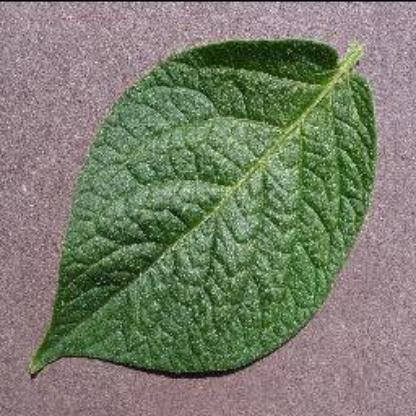Healthy-plant: (17, 24, 394, 390)
